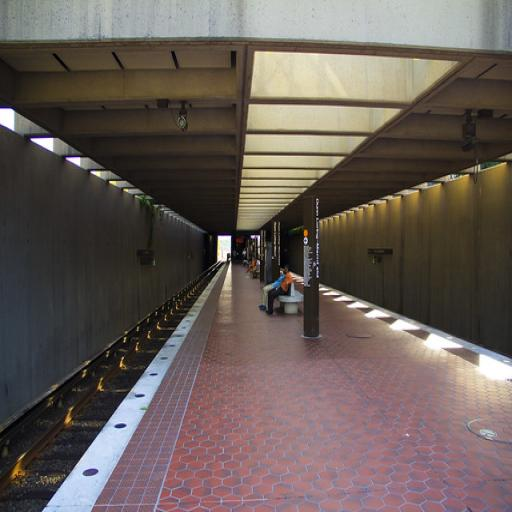platform_edge: (40, 263, 226, 510)
